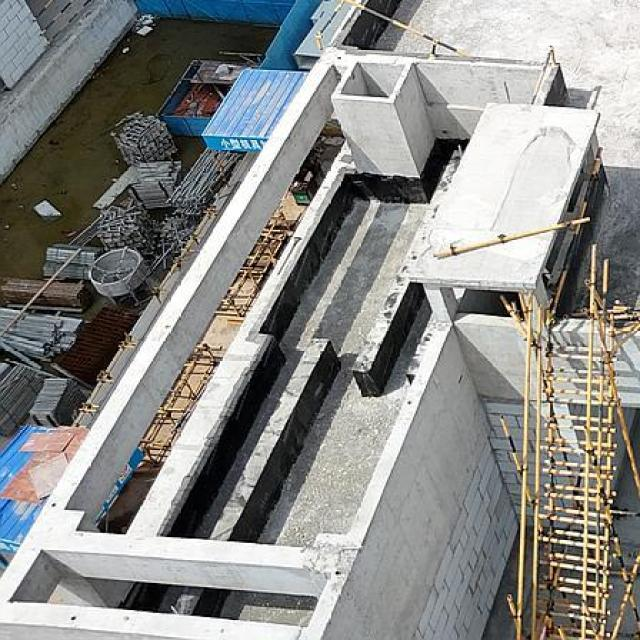edge_guardrail: (550, 146, 604, 316), (342, 0, 465, 57), (34, 0, 92, 43), (530, 44, 556, 106), (314, 0, 344, 50)
